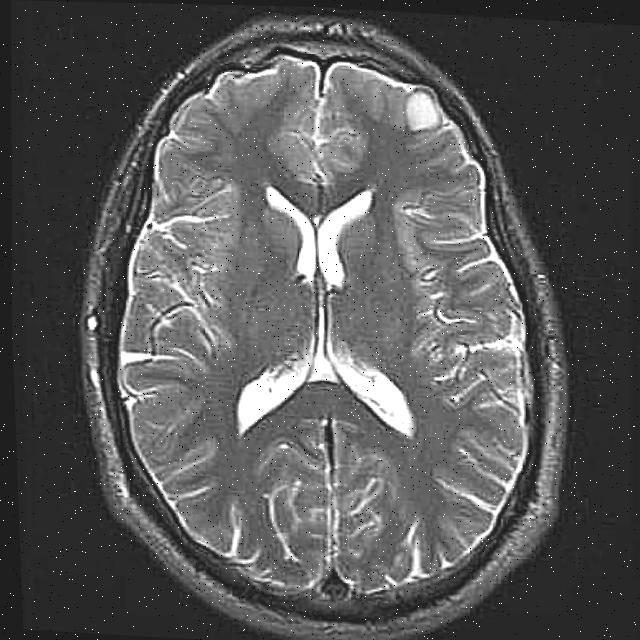NoTumor: (51, 1, 592, 640)
